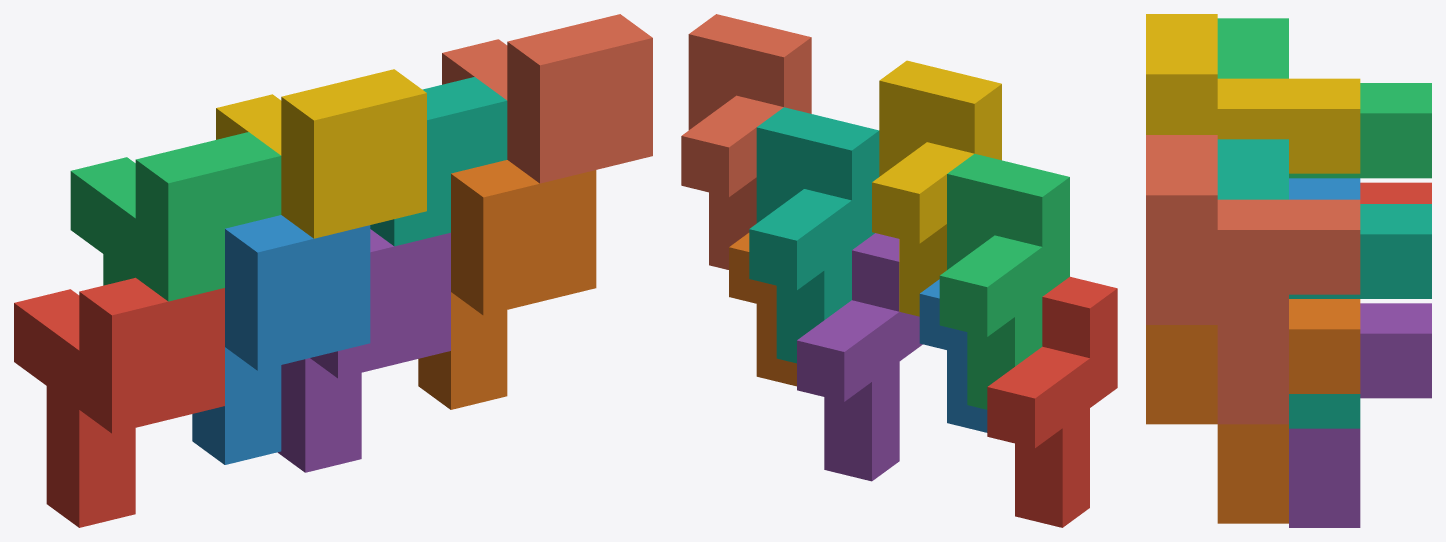
File: tiling.obj
3 renders of one model, left to right at view 1: azimuth 30°, elevation 25°; view 2: azimuth 150°, elevation 25°; view 3: azimuth 270°, elevation 25°, orthographic. The views are drawn at different scales.
Parts seen in each view (by area): view 1: copy_1_domain_1, copy_1_domain_2, copy_1_domain_6, copy_1_domain_3, copy_1_domain_4, copy_1_domain_8, copy_1_domain_5, copy_1_domain_7; view 2: copy_1_domain_3, copy_1_domain_7, copy_1_domain_1, copy_1_domain_8, copy_1_domain_4, copy_1_domain_5, copy_1_domain_2, copy_1_domain_6; view 3: copy_1_domain_8, copy_1_domain_6, copy_1_domain_4, copy_1_domain_5, copy_1_domain_7, copy_1_domain_3, copy_1_domain_1, copy_1_domain_2.
Part boxes in pixels (x1,y1,x2,y2): copy_1_domain_1: (14, 277, 224, 527); copy_1_domain_2: (192, 215, 370, 464); copy_1_domain_6: (418, 160, 596, 409); copy_1_domain_3: (70, 132, 281, 301); copy_1_domain_4: (216, 69, 426, 238); copy_1_domain_8: (442, 14, 652, 183); copy_1_domain_5: (277, 229, 450, 472); copy_1_domain_7: (370, 77, 507, 246); copy_1_domain_3: (939, 154, 1069, 409); copy_1_domain_7: (749, 107, 879, 363); copy_1_domain_1: (987, 276, 1117, 527); copy_1_domain_8: (681, 14, 811, 269); copy_1_domain_4: (872, 60, 1001, 316); copy_1_domain_5: (797, 233, 922, 481); copy_1_domain_2: (919, 279, 987, 432); copy_1_domain_6: (729, 233, 796, 386); copy_1_domain_8: (1146, 135, 1360, 424); copy_1_domain_6: (1146, 299, 1360, 523); copy_1_domain_4: (1146, 14, 1360, 173); copy_1_domain_5: (1289, 303, 1431, 527); copy_1_domain_7: (1217, 139, 1431, 428); copy_1_domain_3: (1217, 18, 1431, 178); copy_1_domain_1: (1360, 182, 1431, 203); copy_1_domain_2: (1289, 178, 1360, 199).
Bounding box in the file's own units: 9 × 7 × 4.
